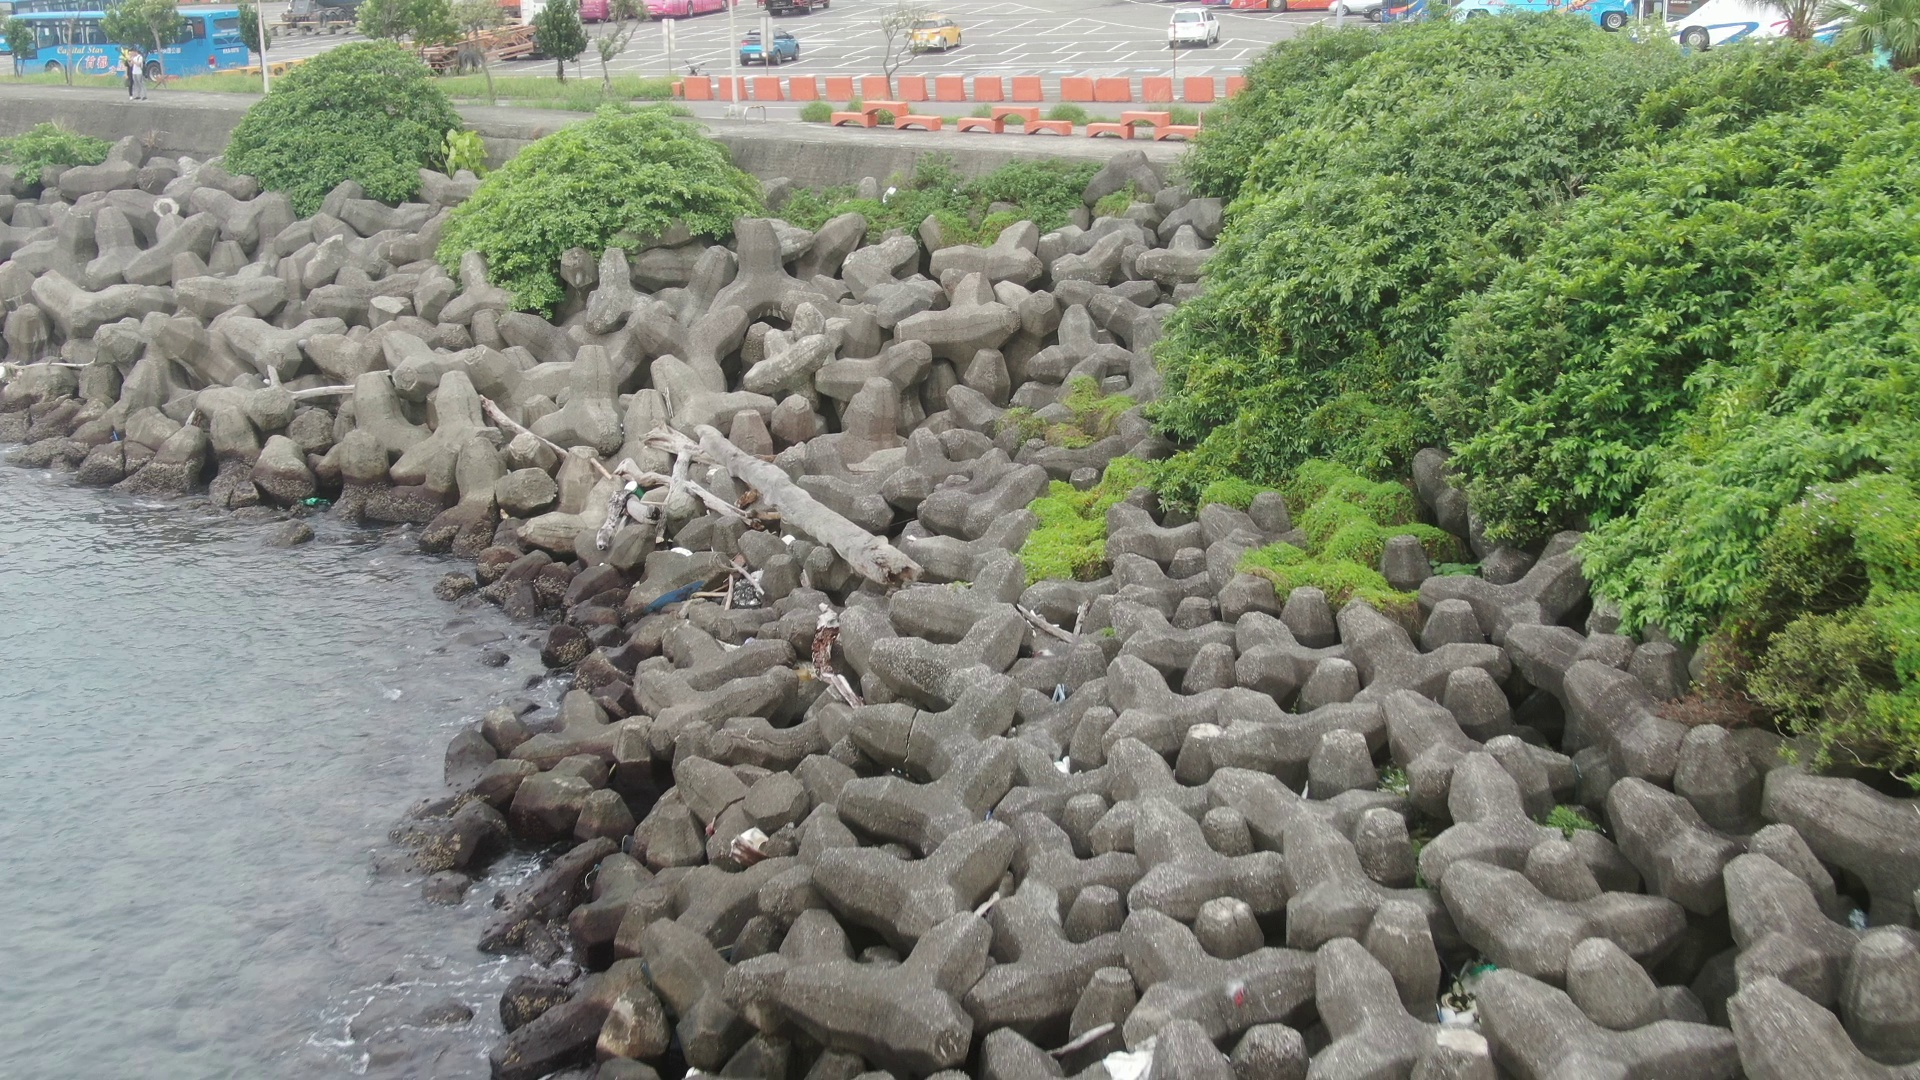garbage: (1427, 956, 1523, 1060), (607, 574, 711, 624), (728, 558, 771, 617), (725, 820, 773, 874), (1052, 745, 1087, 793), (615, 472, 646, 506), (291, 491, 332, 517), (876, 179, 907, 210), (665, 541, 700, 567), (782, 527, 803, 549)
